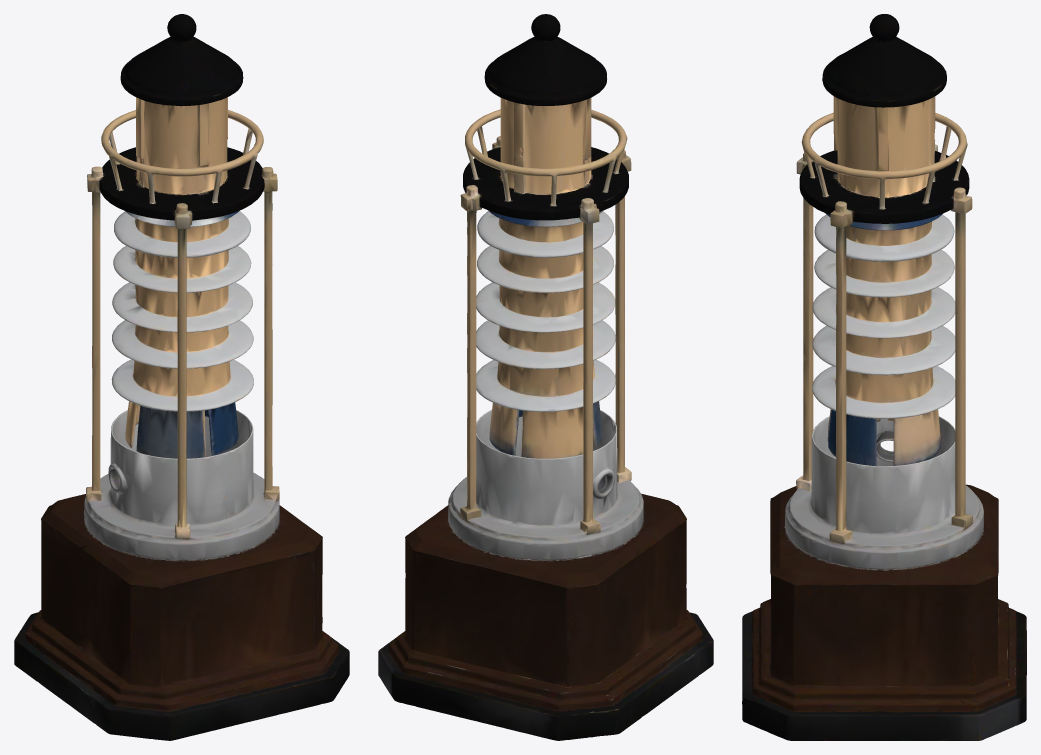
File: trophy-directl-v2-perf.glb
3 views of the same model, side by side, from view 1: azimuth 30°, elevation 25°; view 2: azimuth 150°, elevation 25°; view 3: azimuth 270°, elevation 25° (orthographic).
Parts seen in each view (by area): view 1: world; view 2: world; view 3: world.
Boxes of the visible parts, left/top/right/bottom form: world: left=14, top=14, right=349, bottom=740; world: left=378, top=14, right=713, bottom=740; world: left=742, top=14, right=1026, bottom=740.
Size of the model in its own units: 0.3858 by 1 by 0.3873.
Materials: 1 (1 with a texture image).
